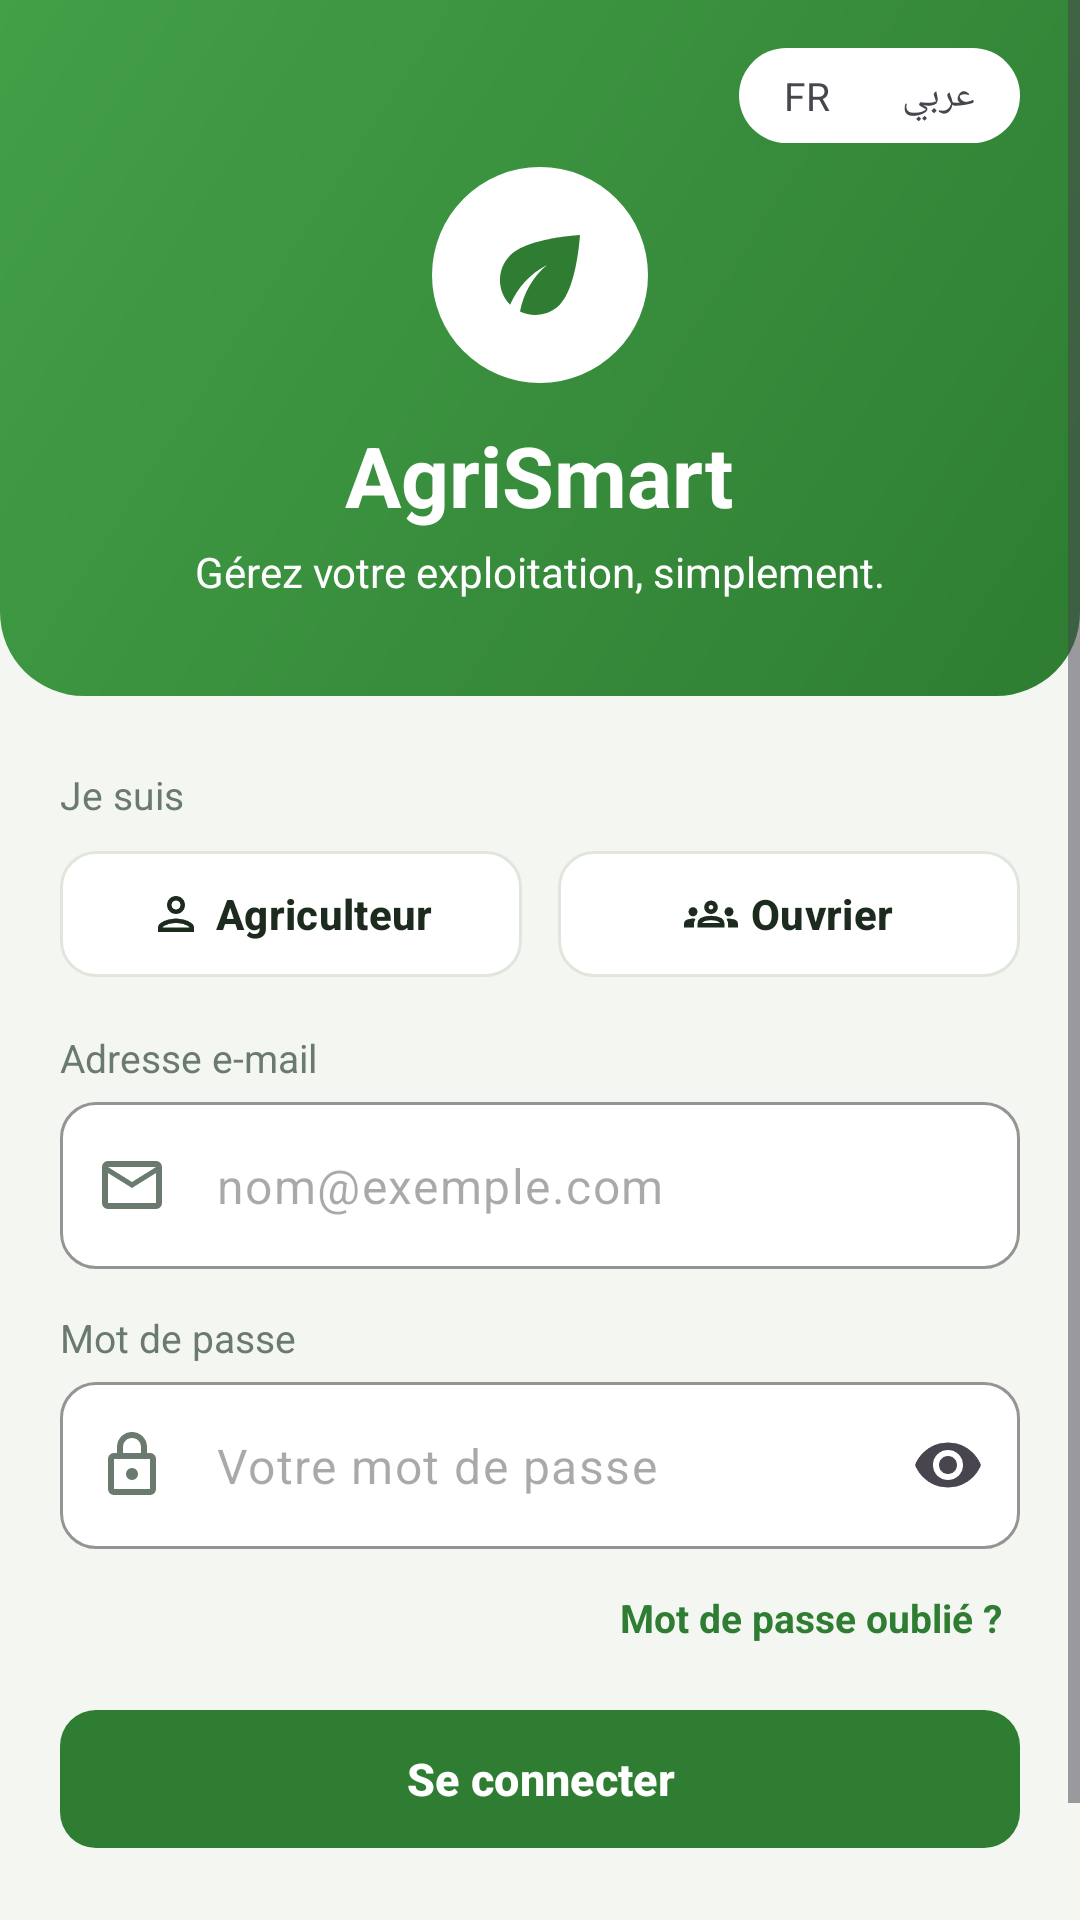

Point at icon controls on the screen. Image size 1080*1920, points as point (x, y).
leaf: point (540, 275)
